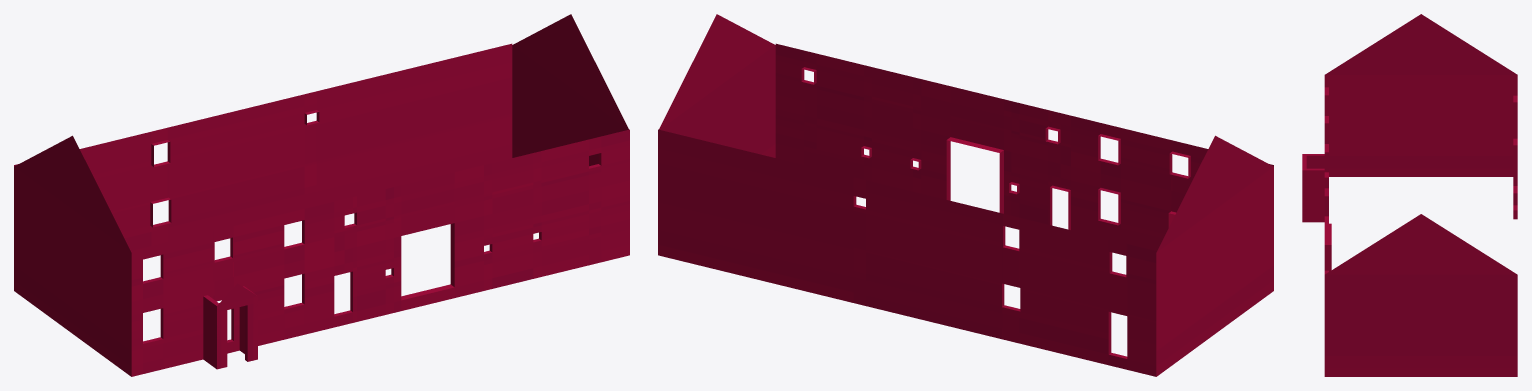
The model's file is SM_Bld_061_Masonry.glb.
The picture shows the model from 3 angles, left to right: view 1: azimuth 30°, elevation 25°; view 2: azimuth 150°, elevation 25°; view 3: azimuth 270°, elevation 25°; orthographic projection. The views are drawn at different scales.
Parts seen in each view (by area): view 1: SM_Bld_061_Masonry; view 2: SM_Bld_061_Masonry; view 3: SM_Bld_061_Masonry.
Part boxes in pixels (x1=…): SM_Bld_061_Masonry: x1=14, y1=14, x2=629, y2=376; SM_Bld_061_Masonry: x1=658, y1=14, x2=1273, y2=376; SM_Bld_061_Masonry: x1=1302, y1=14, x2=1517, y2=376.
Size of the model in its own units: 24.31 by 9.25 by 11.08.
